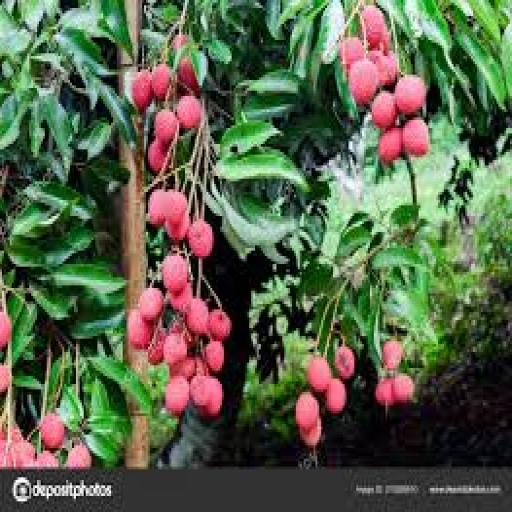lychee: (349, 59, 379, 106), (396, 75, 426, 114), (162, 254, 188, 295), (187, 219, 214, 258), (403, 118, 430, 157), (127, 310, 153, 349), (361, 6, 385, 47), (372, 91, 397, 130), (166, 376, 190, 415), (131, 70, 153, 111), (39, 414, 64, 450), (154, 110, 179, 146), (378, 128, 402, 165), (296, 392, 319, 429), (185, 299, 208, 335), (339, 38, 364, 71), (139, 288, 163, 322), (178, 96, 202, 130), (178, 56, 200, 93), (166, 190, 188, 226), (308, 358, 332, 391), (203, 379, 223, 418), (164, 334, 186, 367), (335, 347, 356, 381), (152, 64, 171, 101), (148, 190, 167, 226), (170, 283, 192, 314), (209, 310, 231, 341), (326, 379, 346, 413), (166, 214, 190, 242), (191, 376, 212, 407), (148, 139, 167, 173), (67, 443, 91, 469), (392, 374, 414, 402), (170, 358, 196, 381), (300, 419, 321, 447), (148, 331, 165, 365), (382, 342, 402, 370), (205, 342, 223, 373), (374, 379, 393, 407), (36, 451, 60, 469), (0, 312, 11, 349), (0, 366, 11, 394), (172, 35, 188, 50)
